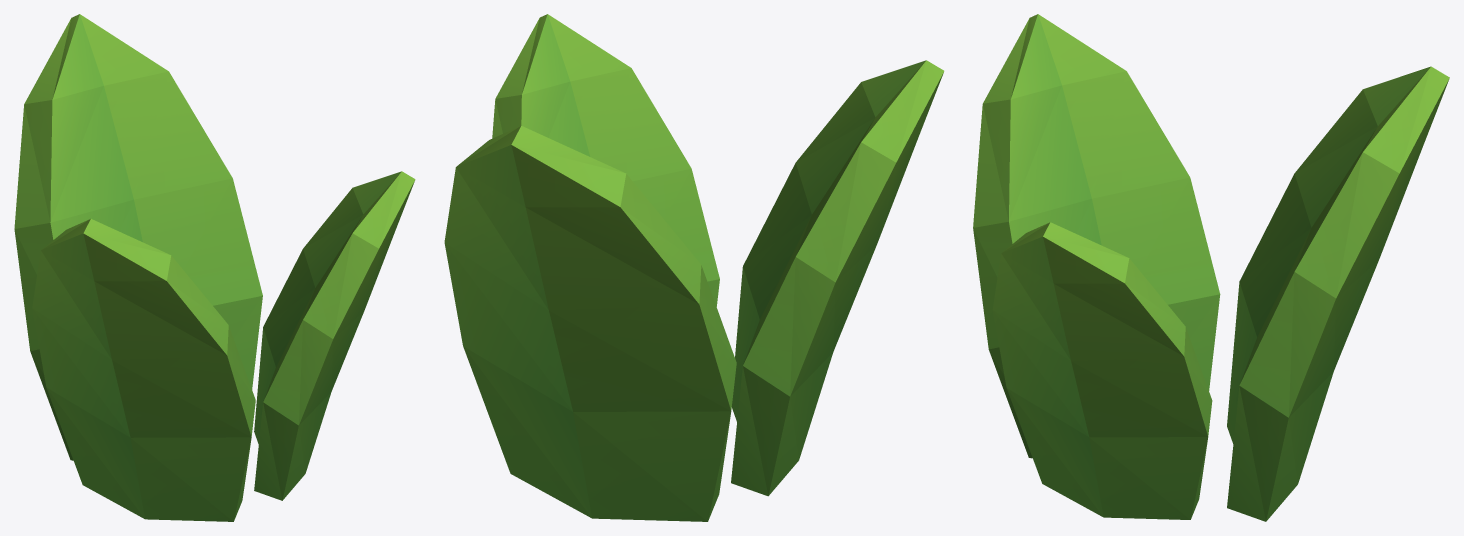
File: kf_grass_1_b.fbx
3 renders of one model, left to right at view 1: azimuth 30°, elevation 25°; view 2: azimuth 150°, elevation 25°; view 3: azimuth 270°, elevation 25°, orthographic. The views are drawn at different scales.
Visible parts, largest first — view 1: kf_grass_1_b; view 2: kf_grass_1_b; view 3: kf_grass_1_b.
Part boxes in pixels (box(x1,y1,x2,y2)): kf_grass_1_b: box(14, 14, 415, 521); kf_grass_1_b: box(444, 14, 944, 521); kf_grass_1_b: box(973, 14, 1449, 521).
Size of the model in its own units: 0.7071 by 0.7525 by 0.778.
1 material, 1 textured.
